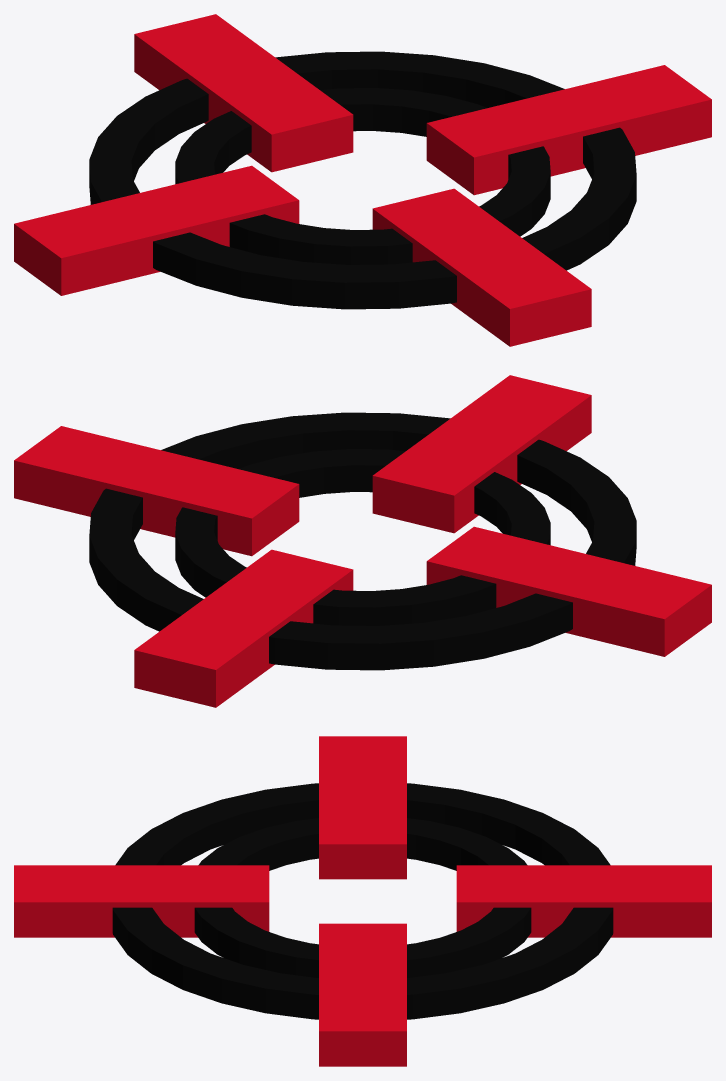
Rendered from Mirilla.fbx.
3 views of the same model, one above another, from view 1: azimuth 30°, elevation 25°; view 2: azimuth 150°, elevation 25°; view 3: azimuth 270°, elevation 25° (orthographic). The views are drawn at different scales.
Parts seen in each view (by area): view 1: Cube; view 2: Cube; view 3: Cube.
Boxes of the visible parts, left/top/right/bottom form: Cube: left=14, top=14, right=711, bottom=346; Cube: left=14, top=375, right=711, bottom=707; Cube: left=14, top=736, right=711, bottom=1066.
Bounding box in the file's own units: 274 × 15.2 × 274.
